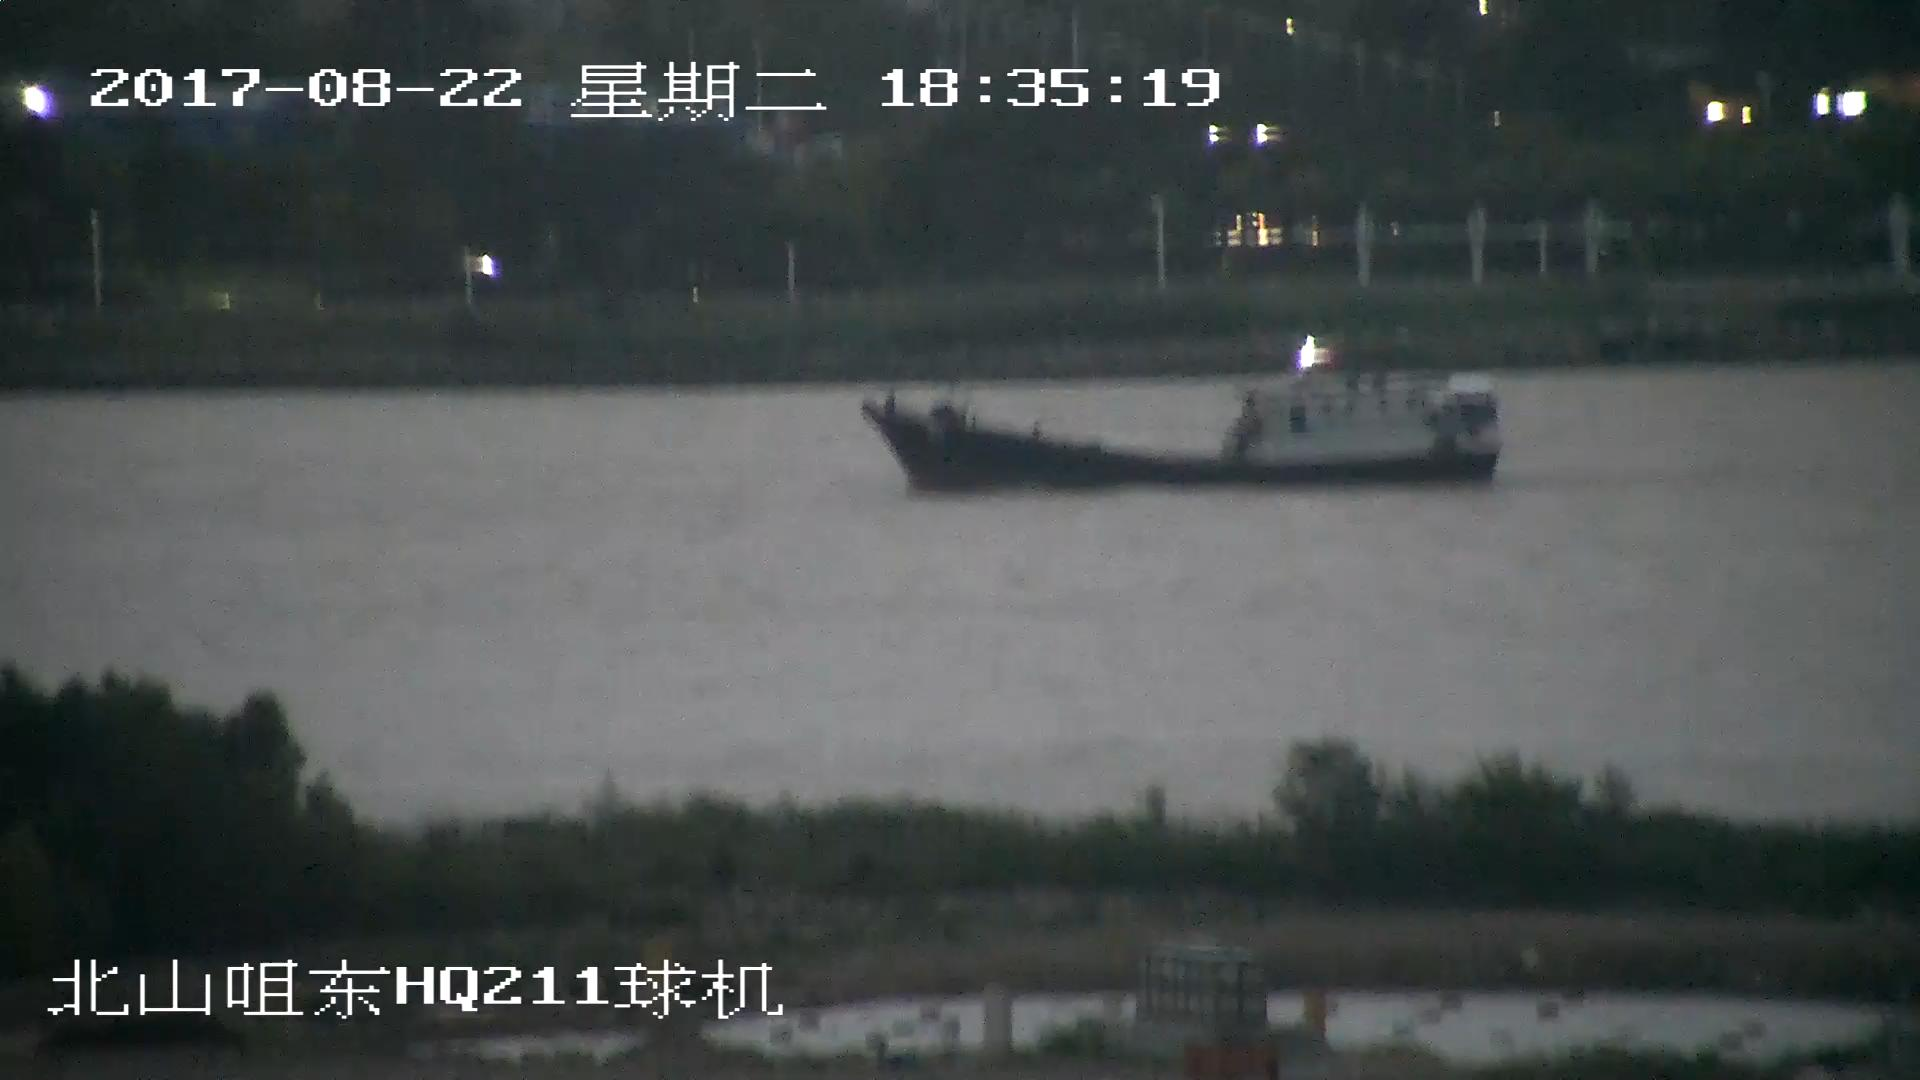fishing boat: (861, 348, 1499, 496)
